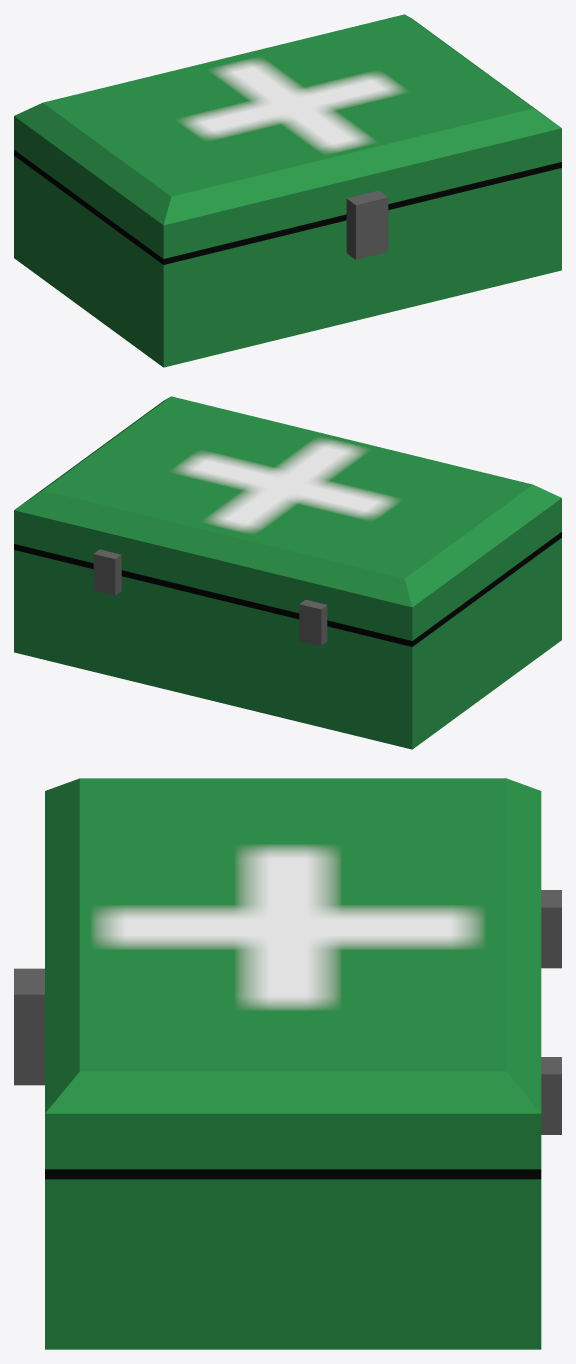
The model's file is HealthKit.fbx.
3 renders of one model, top to bottom at view 1: azimuth 30°, elevation 25°; view 2: azimuth 150°, elevation 25°; view 3: azimuth 270°, elevation 25°, orthographic. The views are drawn at different scales.
Visible parts, largest first — view 1: HealthKit; view 2: HealthKit; view 3: HealthKit.
Part boxes in pixels (<box>): HealthKit: <box>14,14,561,367</box>; HealthKit: <box>14,396,561,749</box>; HealthKit: <box>14,778,561,1349</box>.
Size of the model in its own units: 0.584 by 0.2223 by 0.4192.
